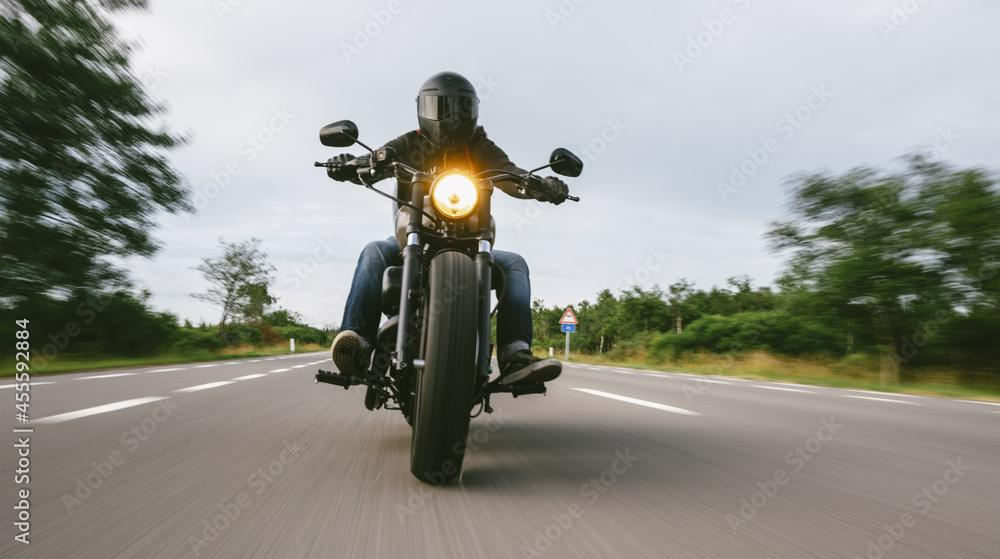helmet: (415, 70, 481, 149)
